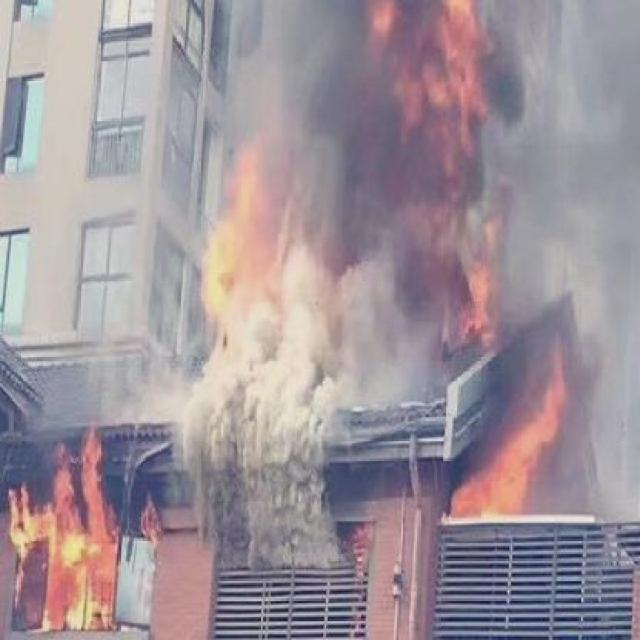Fire: (454, 352, 586, 538), (21, 423, 125, 640), (195, 137, 273, 333)
Smoke: (283, 7, 640, 340), (189, 340, 345, 572)
